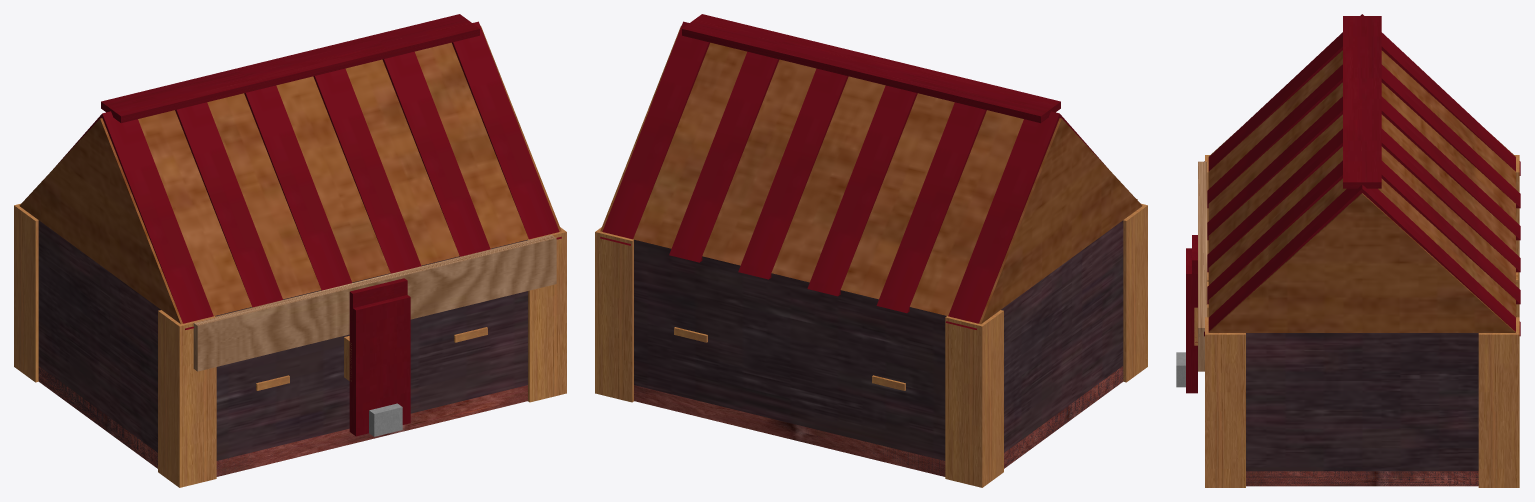
File: Bag_Suitcase_Treasure_chest__0044.glb
3 renders of one model, left to right at view 1: azimuth 30°, elevation 25°; view 2: azimuth 150°, elevation 25°; view 3: azimuth 270°, elevation 25°, orthographic. The views are drawn at different scales.
Visible parts, largest first — view 1: chest_lid::lid_panel, chest_body::wall_front, chest_body::wall_left, chest_lid::lid_front_skirt, chest_lid::ridge_cap, chest_body::corner_post_0, chest_lid::lid_strap_0, lock_hasp::hasp_arm, chest_lid::lid_strap_5, chest_lid::lid_strap_3, chest_lid::lid_strap_1, chest_lid::lid_strap_2 (+6 smaller); view 2: chest_lid::lid_panel, chest_body::wall_back, chest_body::wall_left, chest_lid::ridge_cap, chest_body::corner_post_1, chest_lid::lid_strap_0, chest_lid::lid_strap_3, chest_body::floor_panel, chest_lid::lid_strap_1, chest_lid::lid_strap_4, chest_lid::lid_strap_2, chest_lid::lid_strap_5 (+2 smaller); view 3: chest_lid::lid_panel, chest_body::wall_right, chest_lid::ridge_cap, chest_body::corner_post_3, chest_body::corner_post_2, chest_lid::lid_strap_5, chest_lid::lid_strap_1, chest_lid::lid_strap_2, chest_lid::lid_strap_3, chest_lid::lid_strap_4, chest_lid::lid_strap_0, chest_body::floor_panel (+2 smaller).
Part boxes in pixels (bbox=[...]): chest_lid::lid_panel: bbox=[19, 25, 561, 324]; chest_body::wall_front: bbox=[215, 239, 527, 475]; chest_body::wall_left: bbox=[38, 220, 160, 468]; chest_lid::lid_front_skirt: bbox=[193, 234, 556, 371]; chest_lid::ridge_cap: bbox=[101, 14, 479, 123]; chest_body::corner_post_0: bbox=[158, 310, 216, 487]; chest_lid::lid_strap_0: bbox=[56, 111, 213, 329]; lock_hasp::hasp_arm: bbox=[349, 295, 410, 436]; chest_lid::lid_strap_5: bbox=[452, 21, 561, 239]; chest_lid::lid_strap_3: bbox=[313, 68, 421, 273]; chest_lid::lid_strap_1: bbox=[175, 102, 282, 307]; chest_lid::lid_strap_2: bbox=[244, 85, 351, 290]; chest_lid::lid_panel: bbox=[600, 25, 1142, 324]; chest_body::wall_back: bbox=[634, 239, 946, 475]; chest_body::wall_left: bbox=[1001, 220, 1123, 467]; chest_lid::ridge_cap: bbox=[682, 14, 1060, 123]; chest_body::corner_post_1: bbox=[945, 310, 1003, 487]; chest_lid::lid_strap_0: bbox=[946, 111, 1105, 329]; chest_lid::lid_strap_3: bbox=[738, 68, 848, 279]; chest_body::floor_panel: bbox=[634, 366, 1123, 476]; chest_lid::lid_strap_1: bbox=[876, 102, 986, 313]; chest_lid::lid_strap_4: bbox=[669, 51, 779, 262]; chest_lid::lid_strap_2: bbox=[807, 85, 917, 296]; chest_lid::lid_strap_5: bbox=[600, 21, 709, 245]; chest_lid::lid_panel: bbox=[1208, 50, 1515, 332]; chest_body::wall_right: bbox=[1246, 333, 1478, 486]; chest_lid::ridge_cap: bbox=[1343, 16, 1381, 188]; chest_body::corner_post_3: bbox=[1478, 317, 1519, 487]; chest_body::corner_post_2: bbox=[1205, 317, 1245, 487]; chest_lid::lid_strap_5: bbox=[1204, 184, 1520, 336]; chest_lid::lid_strap_1: bbox=[1207, 64, 1520, 208]; chest_lid::lid_strap_2: bbox=[1207, 96, 1520, 240]; chest_lid::lid_strap_3: bbox=[1207, 128, 1520, 272]; chest_lid::lid_strap_4: bbox=[1207, 160, 1520, 304]; chest_lid::lid_strap_0: bbox=[1204, 14, 1520, 175]; chest_body::floor_panel: bbox=[1246, 471, 1478, 486].
Size of the model in its own units: 0.354 by 0.275 by 0.287.
Materials: 7 (7 with a texture image).
